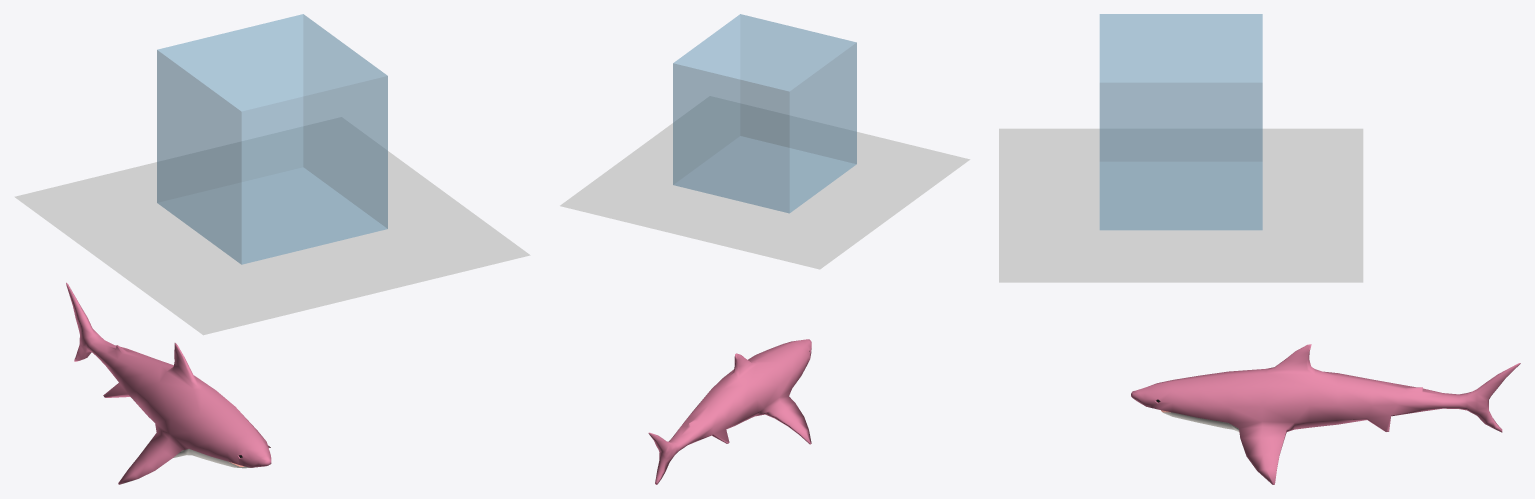
Rendered from GlassShark_2.glb.
The picture shows the model from 3 angles, left to right: view 1: azimuth 30°, elevation 25°; view 2: azimuth 150°, elevation 25°; view 3: azimuth 270°, elevation 25°; orthographic projection. The views are drawn at different scales.
Parts seen in each view (by area): view 1: Plane, Cube, Cube.003; view 2: Plane, Cube, Cube.003; view 3: Plane, Cube, Cube.003.
Boxes of the visible parts, box(x1,y1,x2,y2) form: Plane: box(14, 117, 530, 335); Cube: box(157, 14, 387, 264); Cube.003: box(66, 282, 271, 484); Plane: box(560, 96, 970, 269); Cube: box(673, 14, 856, 213); Cube.003: box(648, 339, 811, 484); Plane: box(999, 128, 1363, 282); Cube: box(1099, 14, 1262, 230); Cube.003: box(1131, 344, 1520, 484).
Bounding box in the file's own units: 14.12 × 17.76 × 20.23.
